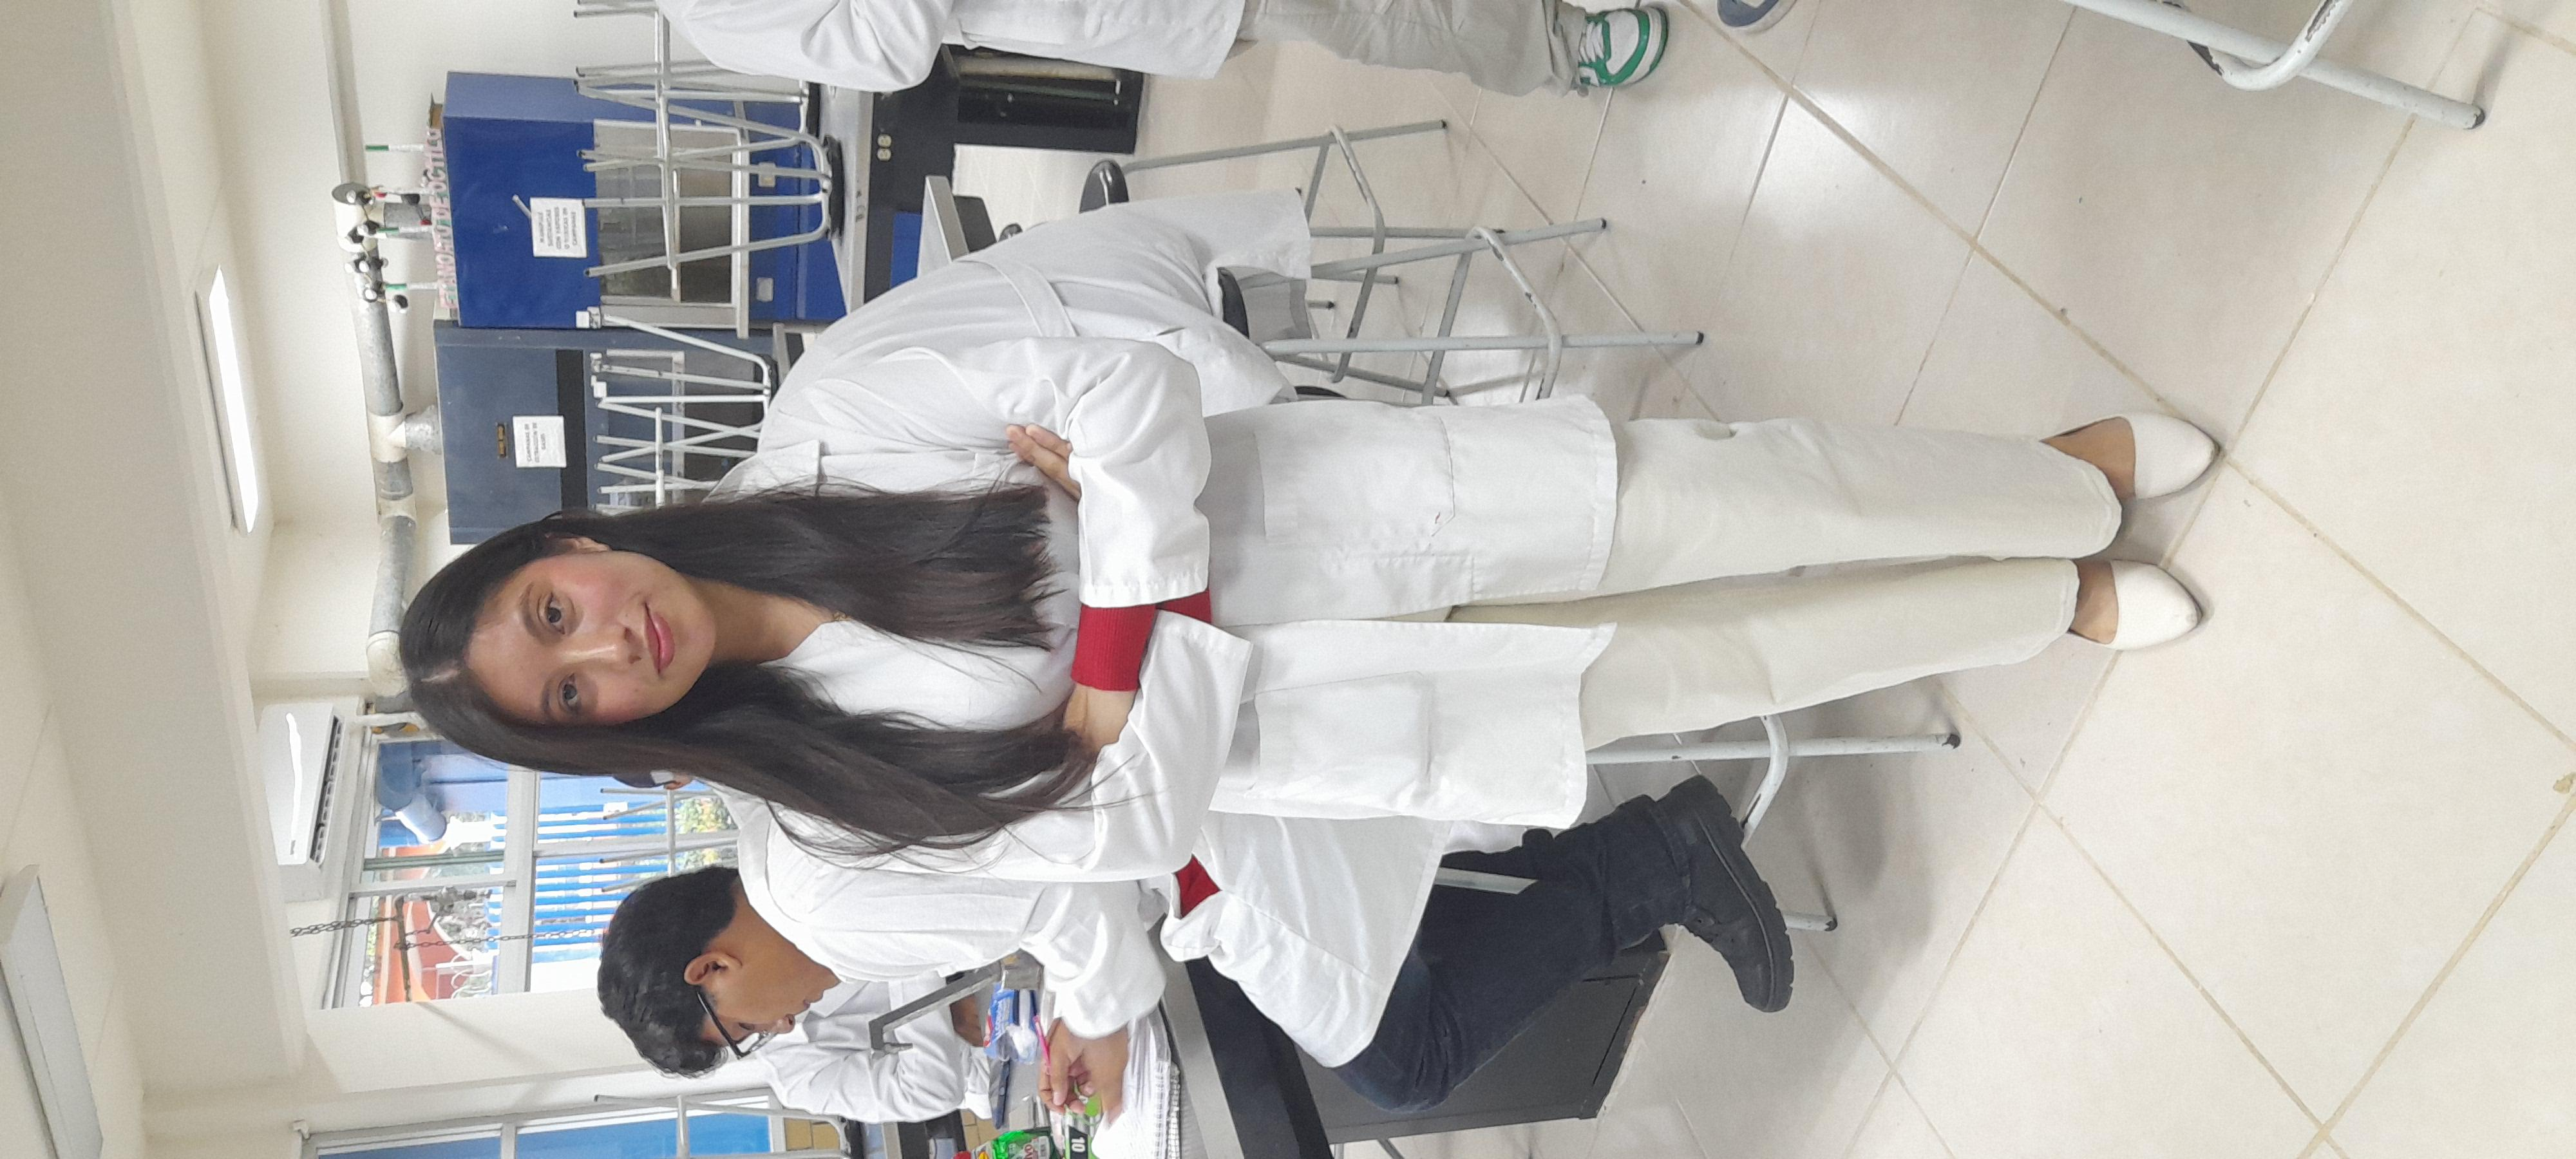Bata-Correcta: (621, 181, 2029, 996)
